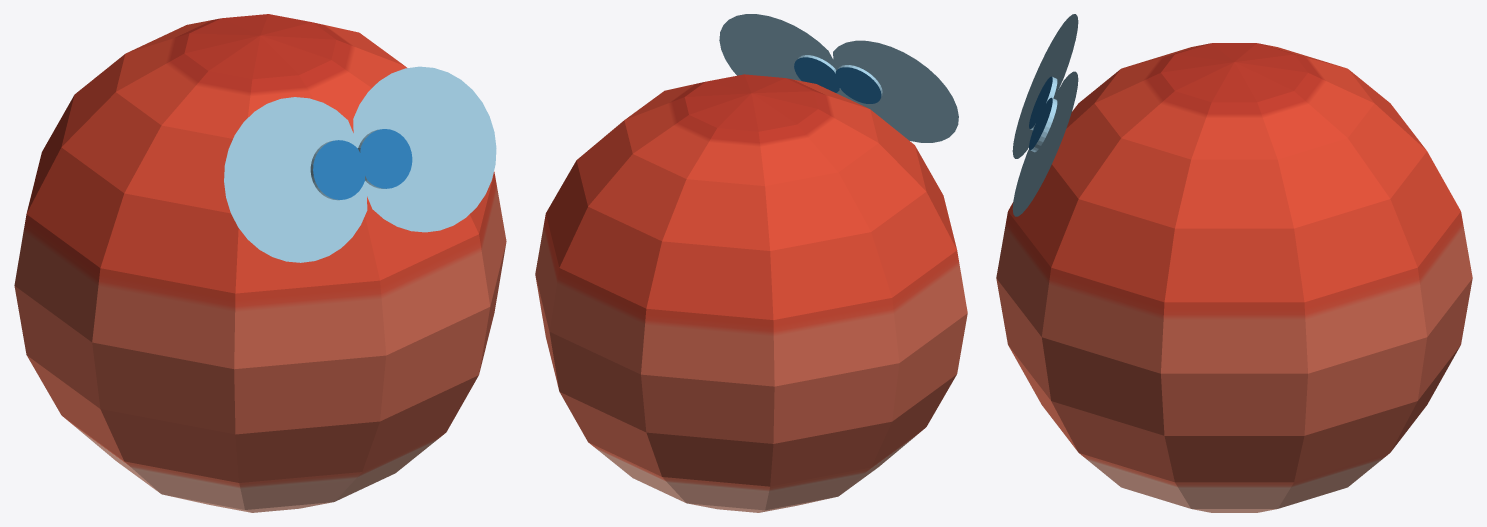
The picture shows the model from 3 angles, left to right: view 1: azimuth 30°, elevation 25°; view 2: azimuth 150°, elevation 25°; view 3: azimuth 270°, elevation 25°; orthographic projection. The views are drawn at different scales.
Visible parts, largest first — view 1: Body, Eyes; view 2: Body, Eyes; view 3: Body, Eyes.
Part boxes in pixels (box(x1,y1,x2,y2)): Body: box(14, 14, 506, 512); Eyes: box(224, 66, 496, 262); Body: box(535, 74, 967, 512); Eyes: box(719, 14, 958, 142); Body: box(996, 43, 1472, 512); Eyes: box(1012, 14, 1078, 216).
Size of the model in its own units: 190 by 205 by 200.
